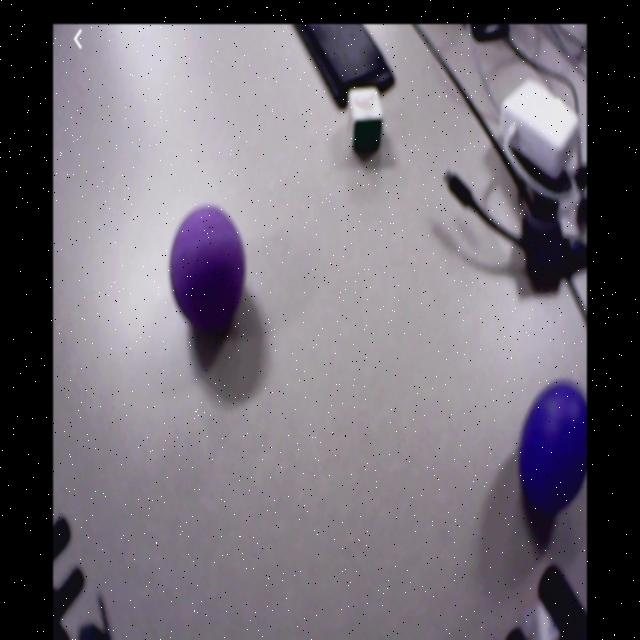ball: (170, 205, 245, 324), (523, 383, 588, 513)
